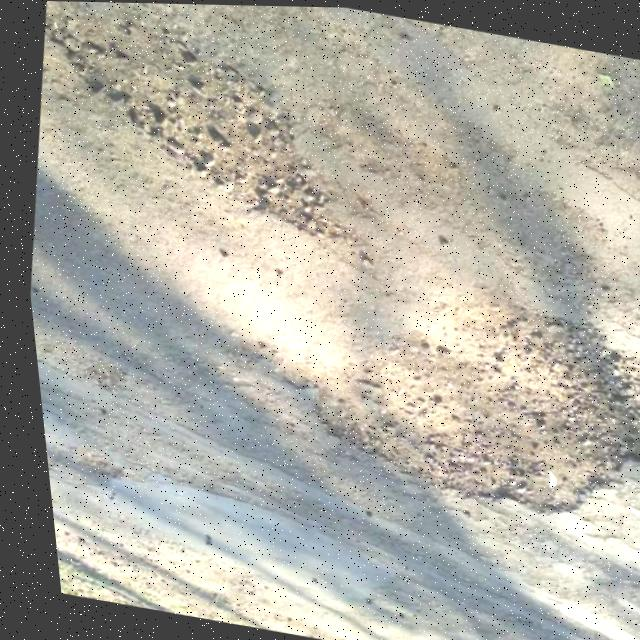Pothole: (259, 263, 640, 541), (17, 1, 378, 246)
